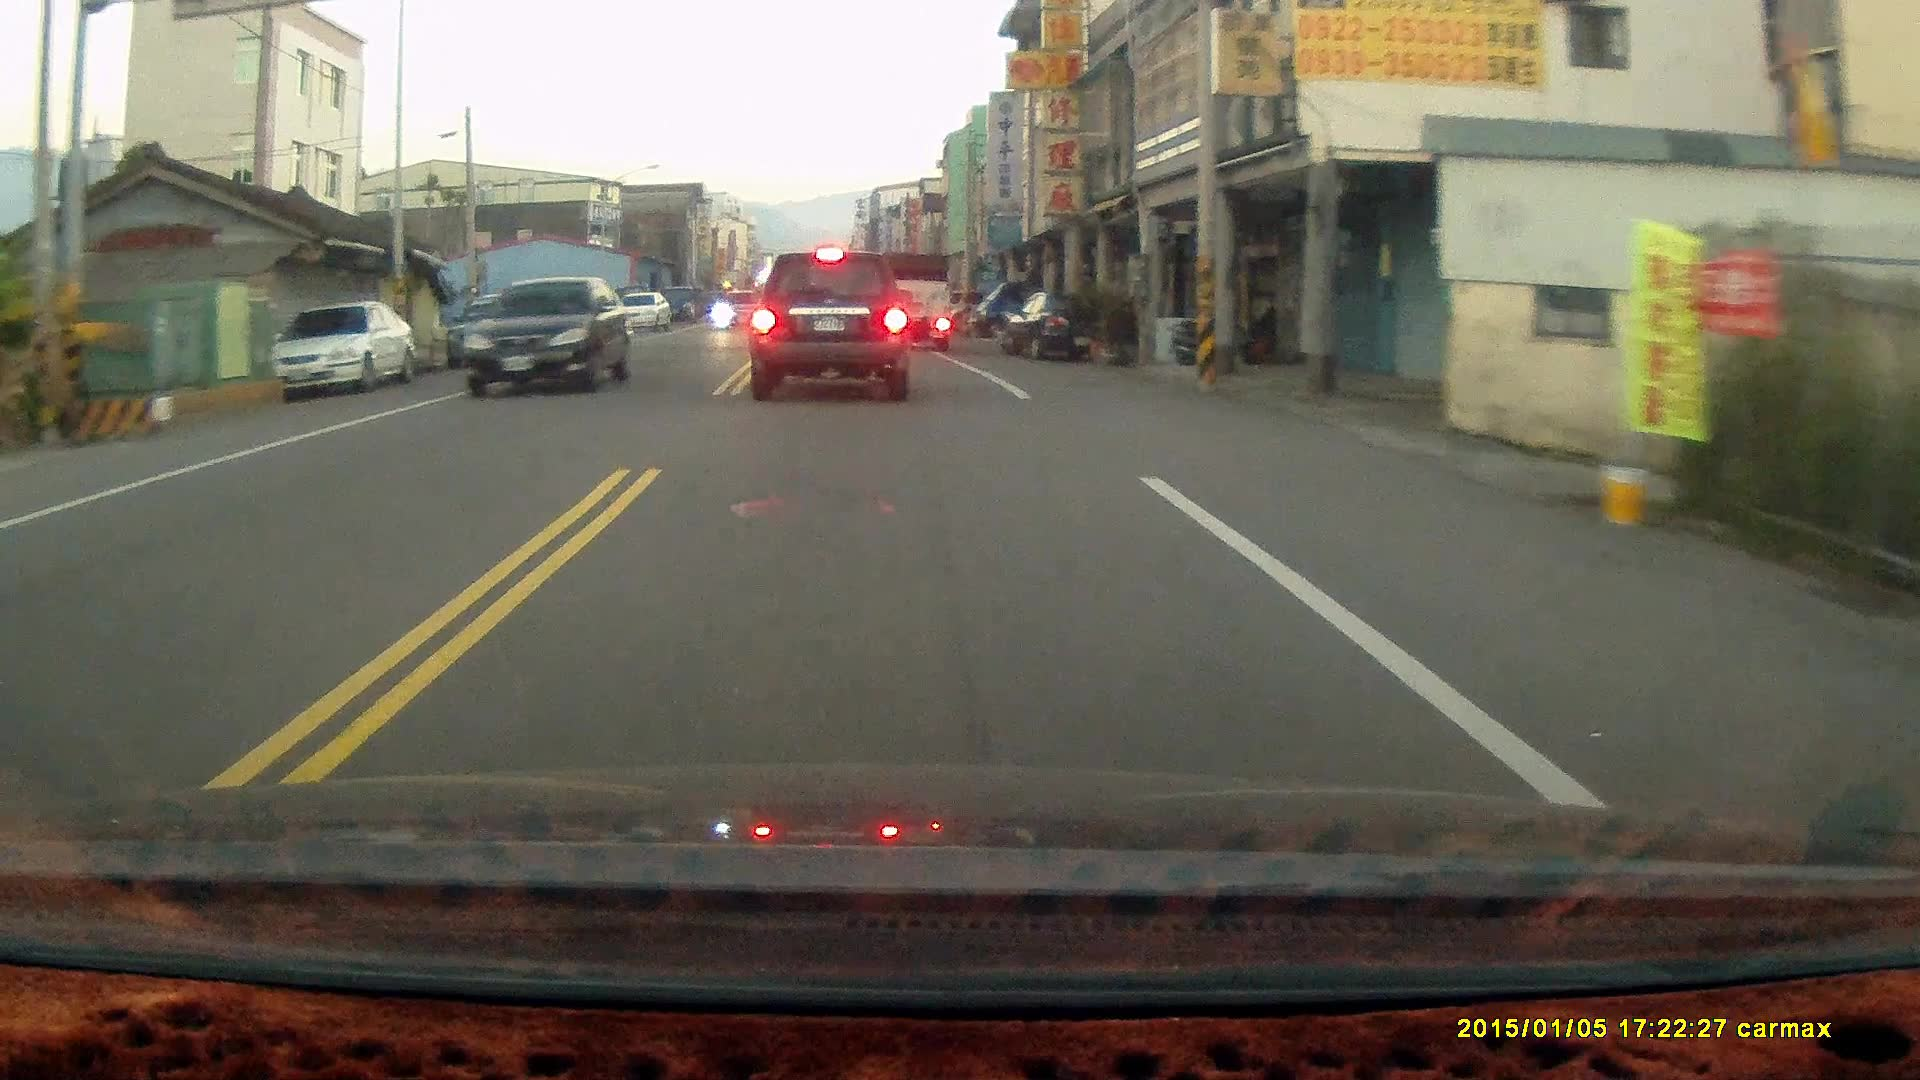vehicle: (750, 247, 916, 404), (462, 276, 632, 400), (266, 298, 418, 392), (1007, 291, 1124, 367), (876, 255, 953, 356), (615, 293, 673, 335)
